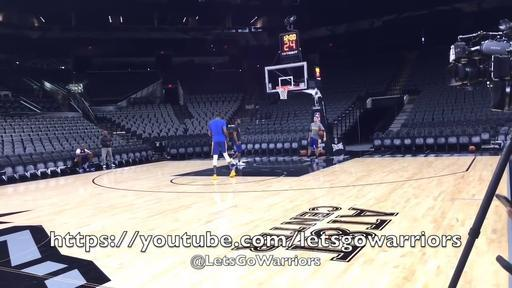ball: (469, 146, 476, 153), (318, 130, 324, 136)
human: (208, 112, 236, 178), (302, 116, 326, 162), (231, 118, 246, 166), (100, 130, 116, 168), (76, 144, 94, 174)
rim: (276, 86, 289, 99)
